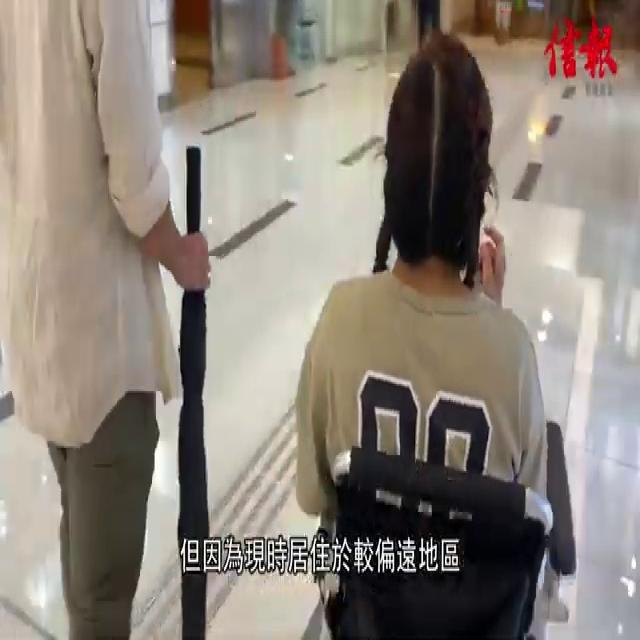wheelchairs: (308, 368, 584, 640)
